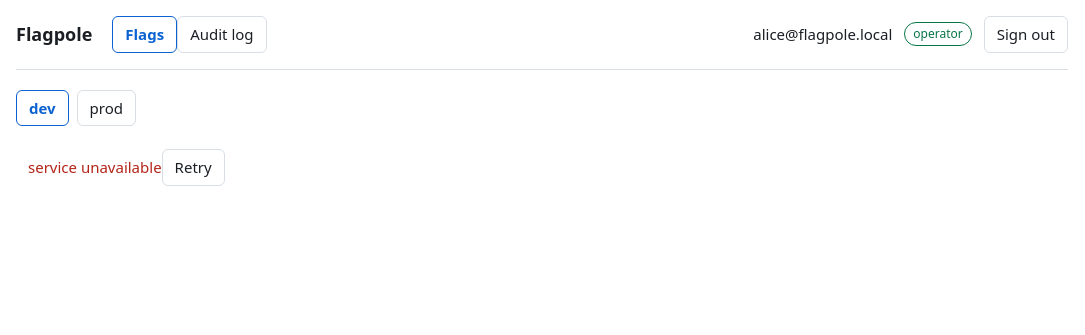
shows an explained error when flags cannot be loaded, and retry refetches (US2-4, FR-013)
Expected: the message with test id "notice-error" shows "service unavailable", x1=28 y1=157 x2=162 y2=177
Click the button with test id "notice-retry": (193, 167) x1=162 y1=149 x2=225 y2=186
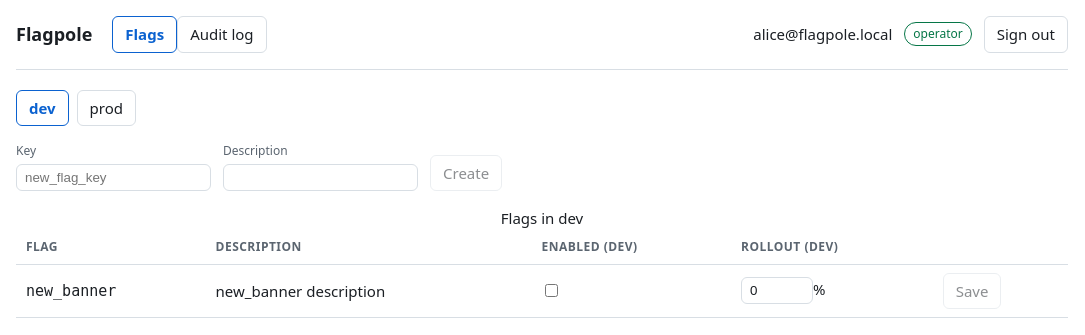
Expected: the row with test id "flag-row-new_banner" is shown, x1=16 y1=264 x2=1068 y2=318
